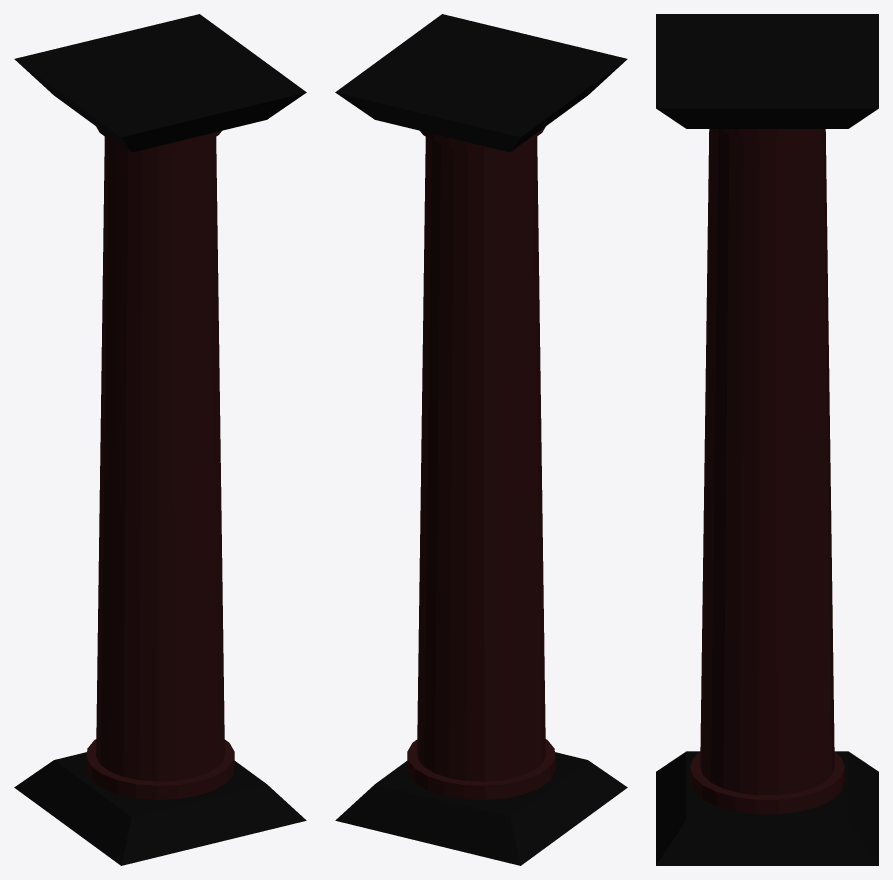
Rendered from Kolumna.fbx.
The picture shows the model from 3 angles, left to right: view 1: azimuth 30°, elevation 25°; view 2: azimuth 150°, elevation 25°; view 3: azimuth 270°, elevation 25°; orthographic projection. The views are drawn at different scales.
Visible parts, largest first — view 1: Cylinder, Cube.003, Cube; view 2: Cylinder, Cube.003, Cube; view 3: Cylinder, Cube.003, Cube.
Part boxes in pixels (left/top/right/bottom): Cylinder: left=86, top=126, right=234, bottom=799; Cube.003: left=14, top=14, right=306, bottom=152; Cube: left=14, top=752, right=306, bottom=865; Cylinder: left=407, top=126, right=555, bottom=799; Cube.003: left=335, top=14, right=627, bottom=152; Cube: left=335, top=752, right=627, bottom=865; Cylinder: left=690, top=129, right=844, bottom=814; Cube.003: left=656, top=14, right=878, bottom=128; Cube: left=656, top=751, right=878, bottom=865.
Size of the model in its own units: 331 by 1243 by 331.
